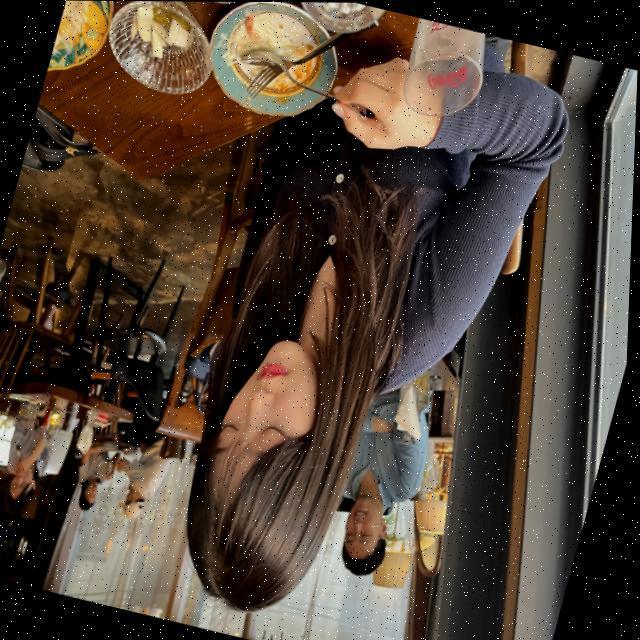eating-person: (69, 1, 597, 640)
